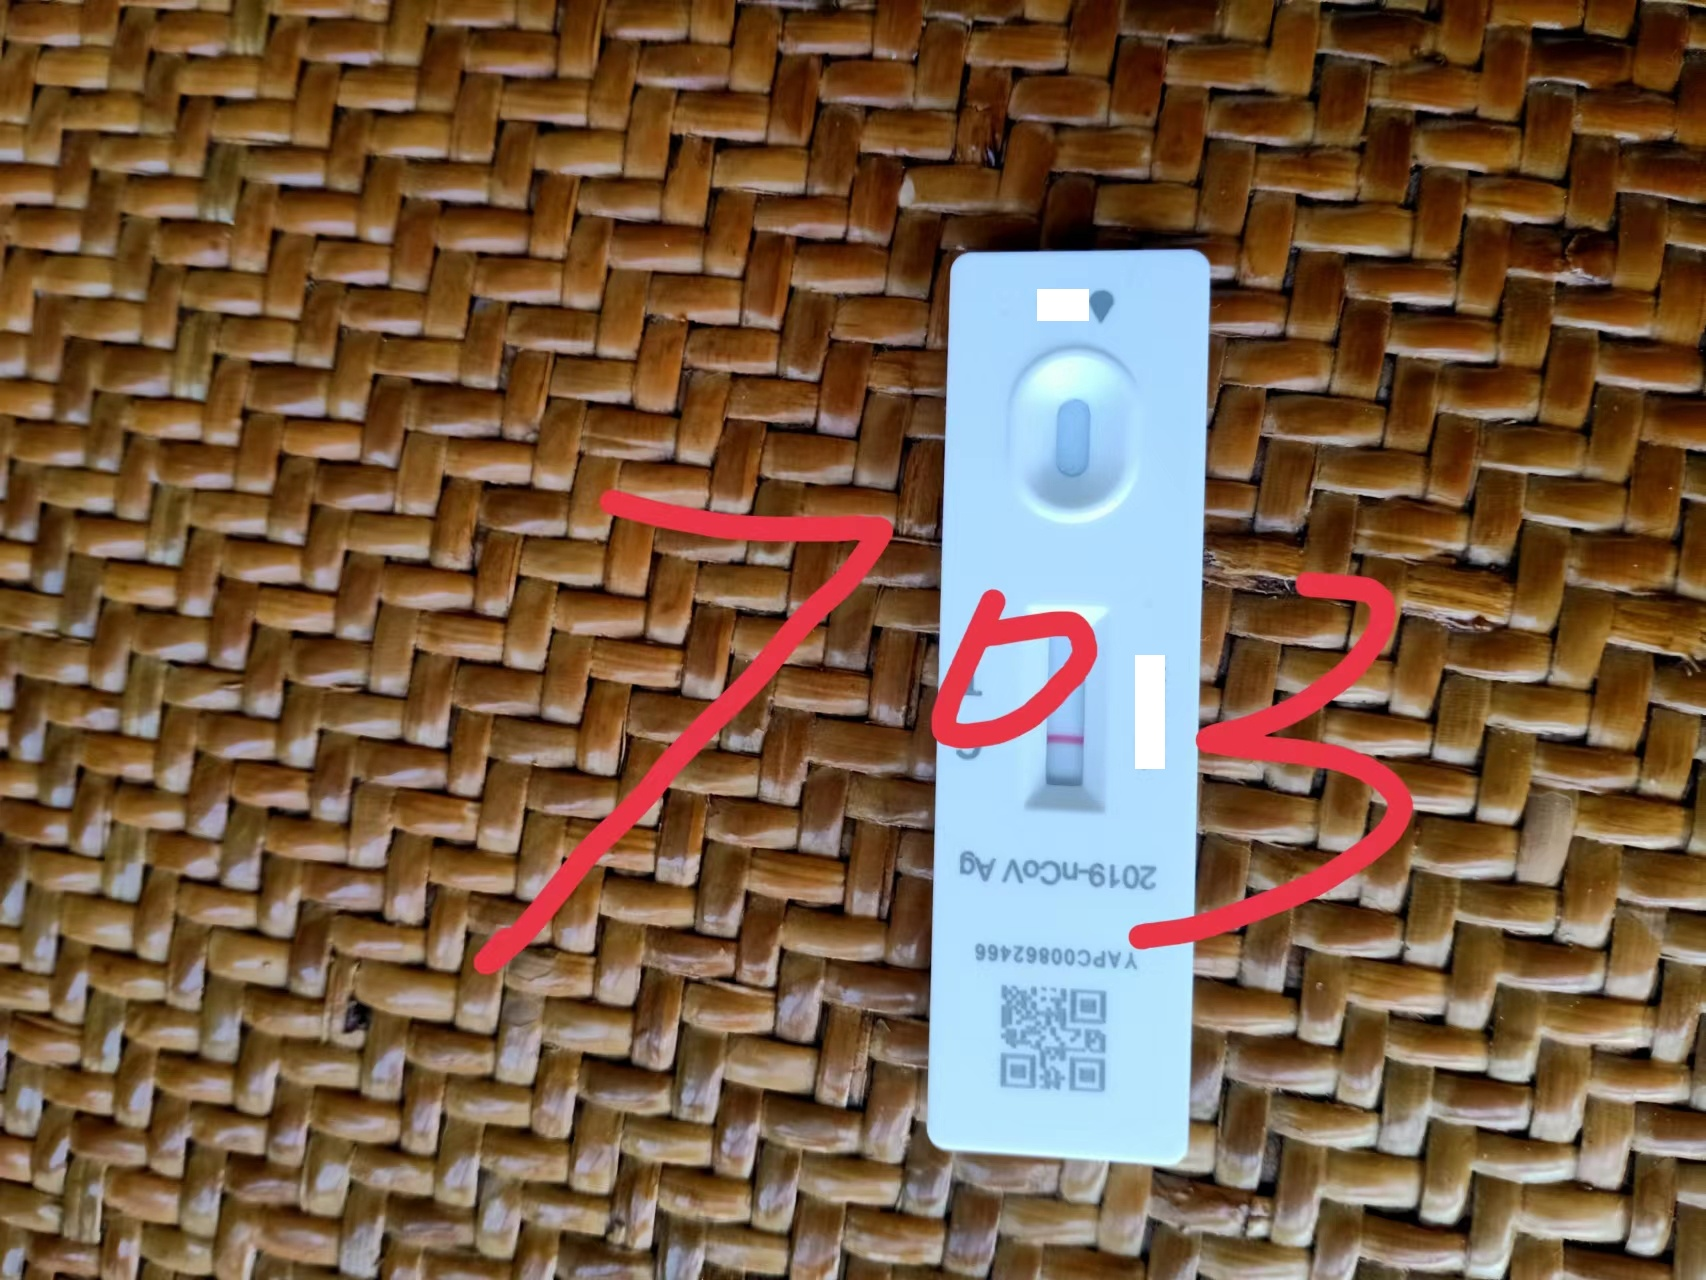negative: (1041, 608, 1096, 800)
